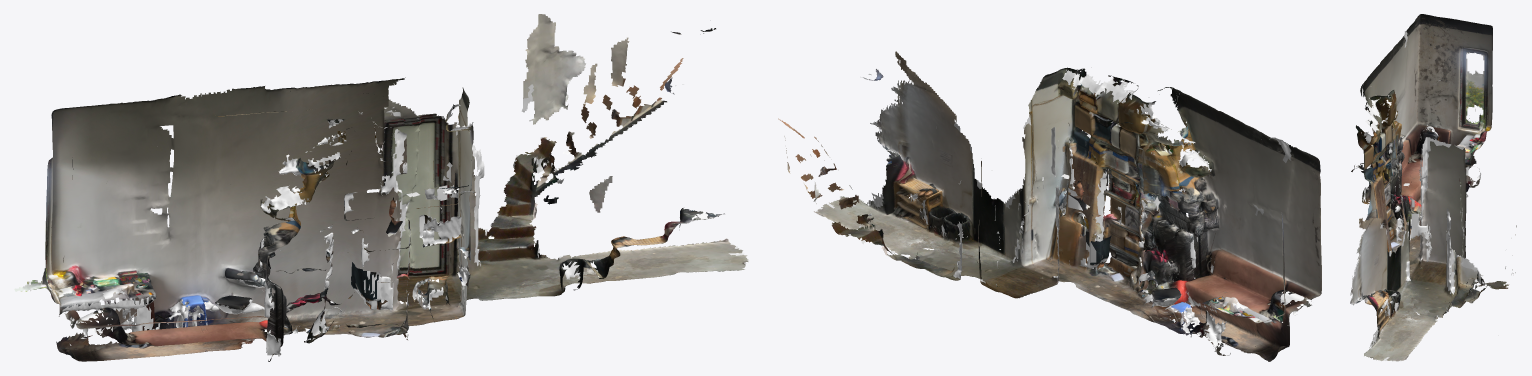
The picture shows the model from 3 angles, left to right: view 1: azimuth 30°, elevation 25°; view 2: azimuth 150°, elevation 25°; view 3: azimuth 270°, elevation 25°; orthographic projection. The views are drawn at different scales.
Parts seen in each view (by area): view 1: texture_8, texture_5, texture_1, texture_2, texture_0, object 5, texture_7, texture_9, texture_6, texture_4, texture_3; view 2: texture_0, texture_3, texture_4, texture_6, texture_8, object 5, texture_1, texture_2, texture_7, texture_9, texture_5; view 3: texture_1, texture_0, texture_2, object 5, texture_6, texture_3, texture_8, texture_4, texture_7, texture_9, texture_5.
Part boxes in pixels (bbox=[...]): texture_8: bbox=[190, 77, 552, 346]; texture_5: bbox=[53, 86, 373, 337]; texture_1: bbox=[32, 97, 173, 353]; texture_2: bbox=[214, 14, 555, 342]; texture_0: bbox=[391, 33, 748, 316]; object 5: bbox=[22, 79, 749, 356]; texture_7: bbox=[14, 81, 383, 361]; texture_9: bbox=[451, 28, 742, 253]; texture_6: bbox=[24, 122, 470, 360]; texture_4: bbox=[291, 87, 474, 335]; texture_3: bbox=[107, 109, 351, 361]; texture_0: bbox=[818, 51, 1055, 292]; texture_3: bbox=[1124, 87, 1290, 327]; texture_4: bbox=[1003, 67, 1179, 297]; texture_6: bbox=[1013, 79, 1312, 353]; texture_8: bbox=[939, 97, 1226, 324]; object 5: bbox=[814, 69, 1311, 355]; texture_1: bbox=[1194, 143, 1321, 359]; texture_2: bbox=[837, 137, 1223, 315]; texture_7: bbox=[1078, 122, 1311, 361]; texture_9: bbox=[778, 118, 1006, 268]; texture_5: bbox=[1095, 238, 1287, 355]; texture_1: bbox=[1396, 14, 1492, 151]; texture_0: bbox=[1350, 201, 1488, 360]; texture_2: bbox=[1384, 141, 1516, 299]; object 5: bbox=[1350, 31, 1506, 361]; texture_6: bbox=[1359, 90, 1477, 280]; texture_3: bbox=[1360, 35, 1423, 236]; texture_8: bbox=[1372, 72, 1446, 309]; texture_4: bbox=[1351, 105, 1420, 280]; texture_7: bbox=[1398, 80, 1487, 244]; texture_9: bbox=[1387, 214, 1515, 361]; texture_5: bbox=[1396, 118, 1486, 246].
Bounding box in the file's own units: 9.53 × 3.46 × 3.32.
11 materials, 10 textured.
